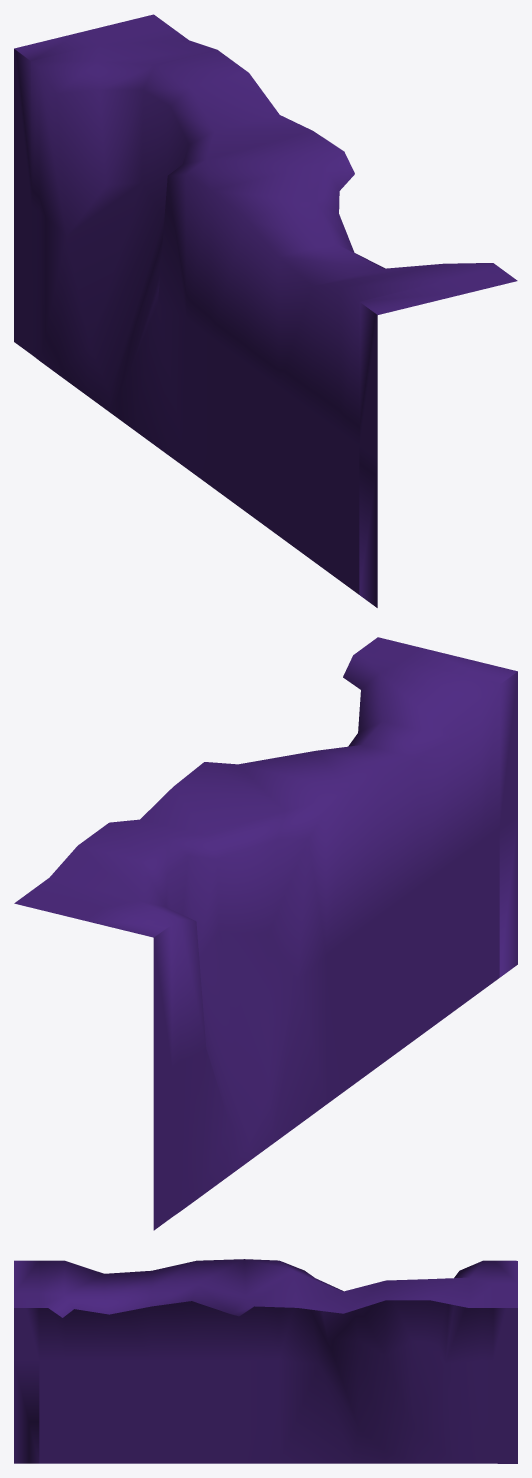
File: f_floor_005.fbx
The picture shows the model from 3 angles, top to bottom: view 1: azimuth 30°, elevation 25°; view 2: azimuth 150°, elevation 25°; view 3: azimuth 270°, elevation 25°; orthographic projection. The views are drawn at different scales.
Visible parts, largest first — view 1: f_floor_04; view 2: f_floor_04; view 3: f_floor_04.
Part boxes in pixels (x1,y1,x2,y2): f_floor_04: (14, 14, 517, 607); f_floor_04: (14, 637, 517, 1230); f_floor_04: (14, 1259, 517, 1463).
Size of the model in its own units: 1001 by 2077 by 4500.
